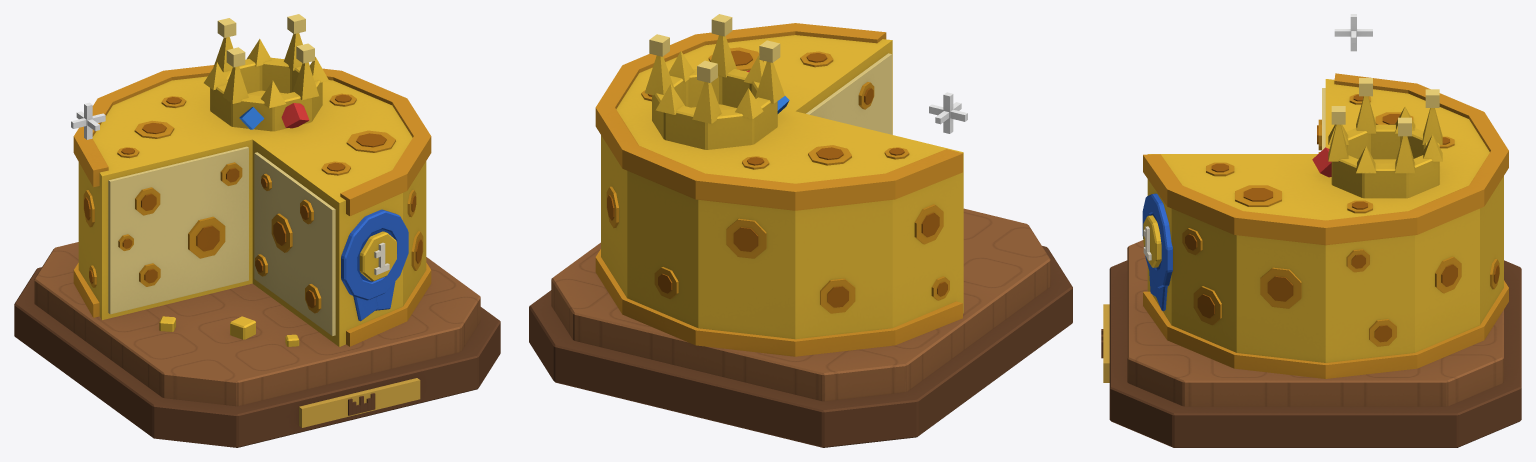
File: ChampionCheese.fbx
3 renders of one model, left to right at view 1: azimuth 30°, elevation 25°; view 2: azimuth 150°, elevation 25°; view 3: azimuth 270°, elevation 25°, orthographic. The views are drawn at different scales.
Visible parts, largest first — view 1: Art_ChampionCheese; view 2: Art_ChampionCheese; view 3: Art_ChampionCheese.
Part boxes in pixels (<box>): Art_ChampionCheese: <box>14,14,500,447</box>; Art_ChampionCheese: <box>529,14,1072,447</box>; Art_ChampionCheese: <box>1101,14,1521,447</box>.
Bounding box in the file's own units: 3.24 × 2.45 × 3.3.
